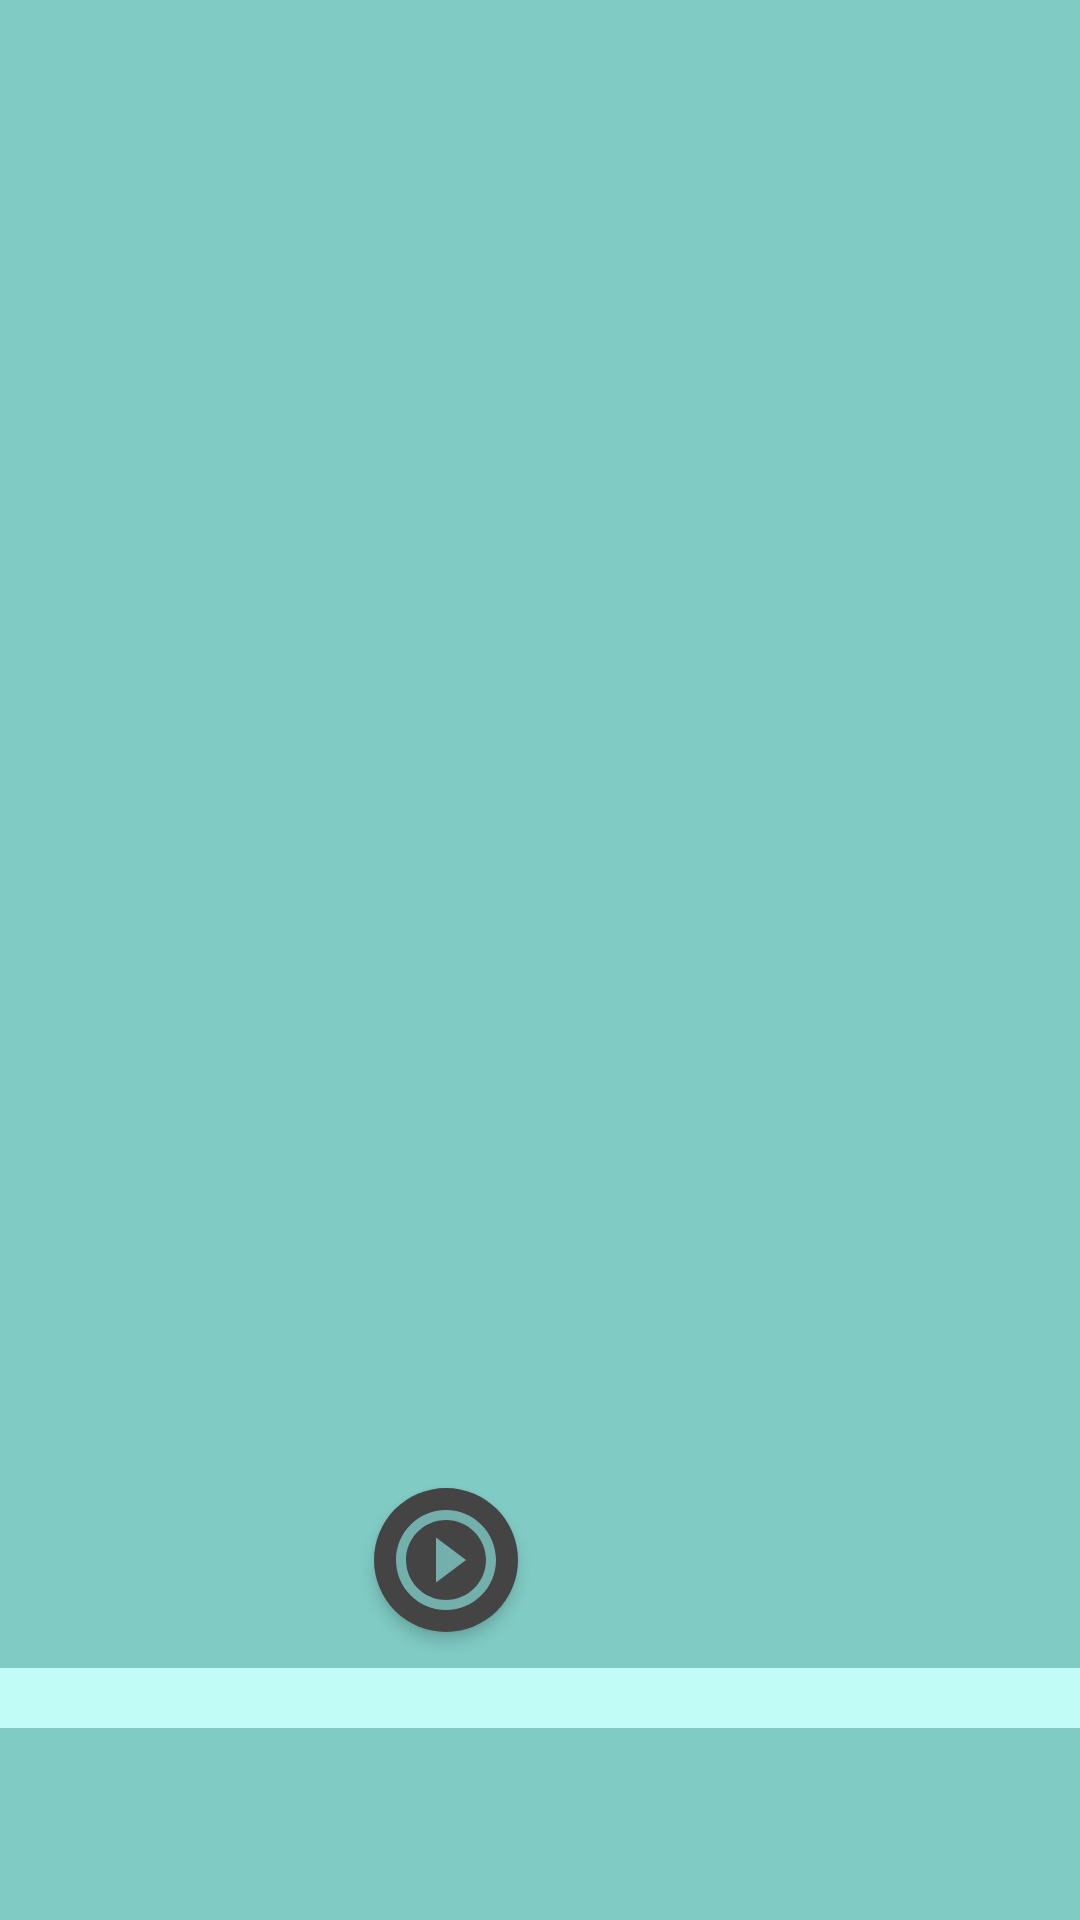

Screen size 1080 x 1920. Icon name, then its center in pixels as (x=x, y=y):
Start: (x=446, y=1560)
